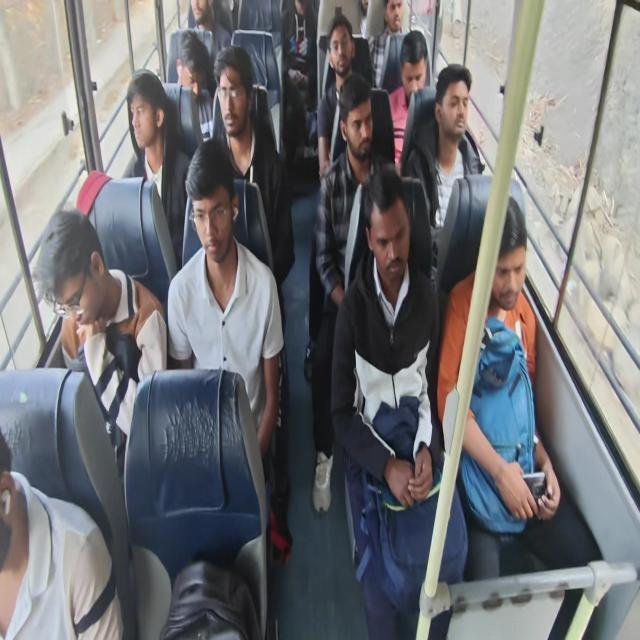person: (50, 220, 120, 340), (192, 153, 244, 265), (476, 213, 532, 317), (369, 202, 412, 283), (219, 59, 253, 137), (127, 81, 159, 150), (439, 76, 471, 142), (342, 94, 376, 154), (176, 33, 203, 98), (328, 30, 358, 80), (404, 43, 427, 107), (189, 0, 212, 26), (386, 0, 404, 31)
